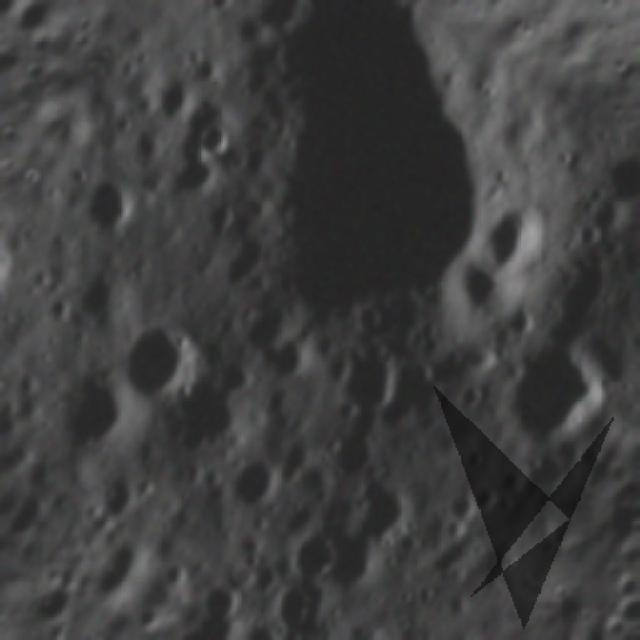crater: (141, 0, 593, 391), (482, 317, 636, 481), (94, 298, 228, 436), (35, 356, 142, 464), (313, 332, 416, 438), (478, 194, 568, 288), (67, 162, 151, 253), (439, 255, 526, 342), (346, 473, 432, 559), (217, 442, 297, 528), (63, 259, 140, 341), (312, 528, 391, 606), (254, 331, 328, 406), (86, 470, 157, 542), (183, 570, 254, 639), (259, 574, 333, 640), (144, 71, 213, 140), (239, 296, 306, 367), (463, 536, 528, 606), (284, 524, 348, 590), (325, 433, 386, 493), (225, 594, 300, 640), (597, 140, 640, 218), (370, 614, 495, 640), (0, 240, 32, 340), (347, 299, 398, 347), (106, 539, 157, 586), (192, 116, 238, 164), (9, 167, 46, 221), (193, 0, 252, 32), (635, 222, 640, 282)
